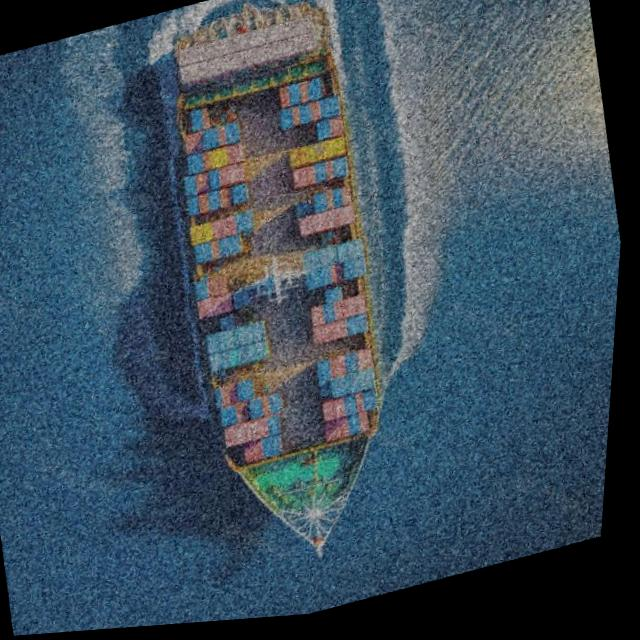ship2: (169, 3, 392, 558)
